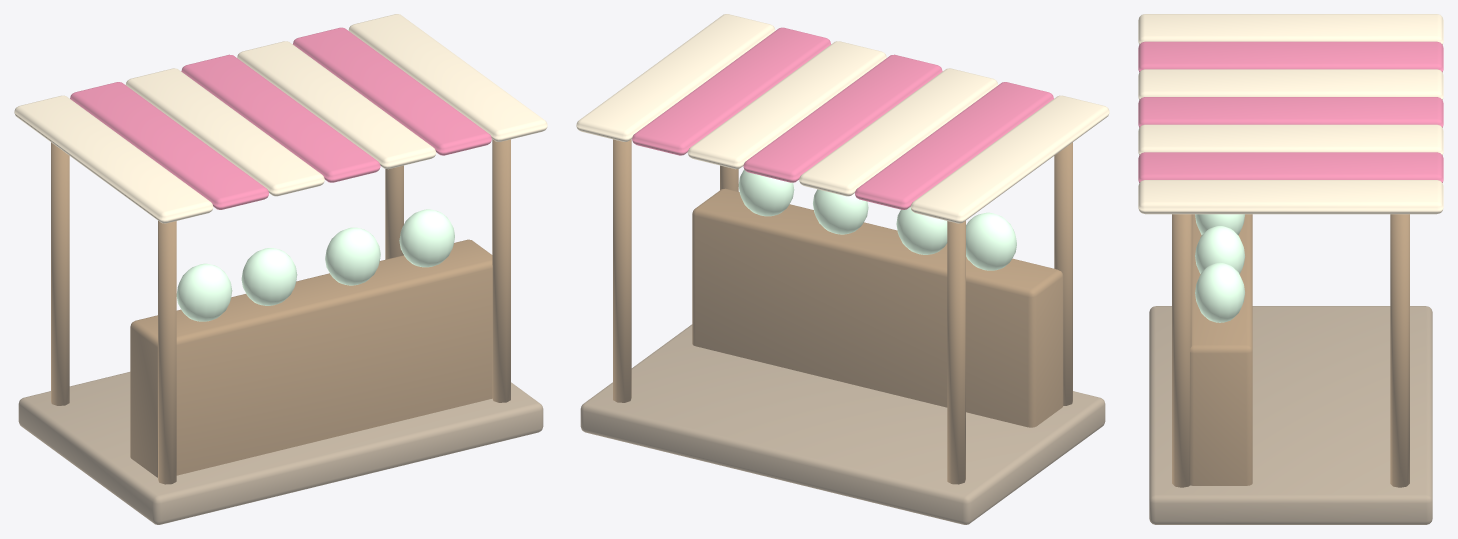
Rendered from castle_detail_market_stall_purified.glb.
3 renders of one model, left to right at view 1: azimuth 30°, elevation 25°; view 2: azimuth 150°, elevation 25°; view 3: azimuth 270°, elevation 25°, orthographic.
Parts seen in each view (by area): view 1: castle_detail_market_stall_purified_surface; view 2: castle_detail_market_stall_purified_surface; view 3: castle_detail_market_stall_purified_surface.
Part boxes in pixels (box(x1,y1,x2,y2)): castle_detail_market_stall_purified_surface: box(14, 14, 547, 524); castle_detail_market_stall_purified_surface: box(576, 14, 1109, 524); castle_detail_market_stall_purified_surface: box(1138, 14, 1443, 524).
Bounding box in the file's own units: 4.2 × 3.26 × 2.8.
